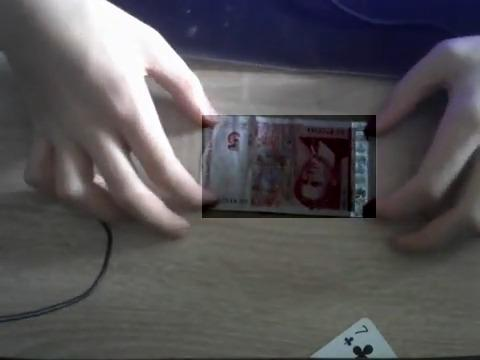5leva: (202, 115, 376, 218)
